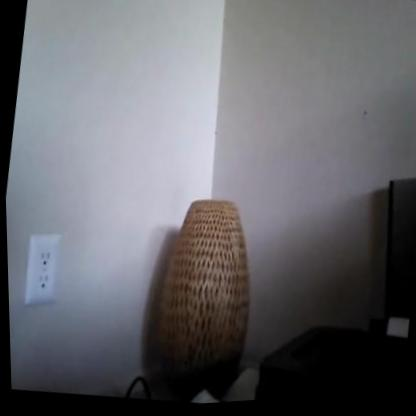OUTLET: (20, 228, 65, 308)
